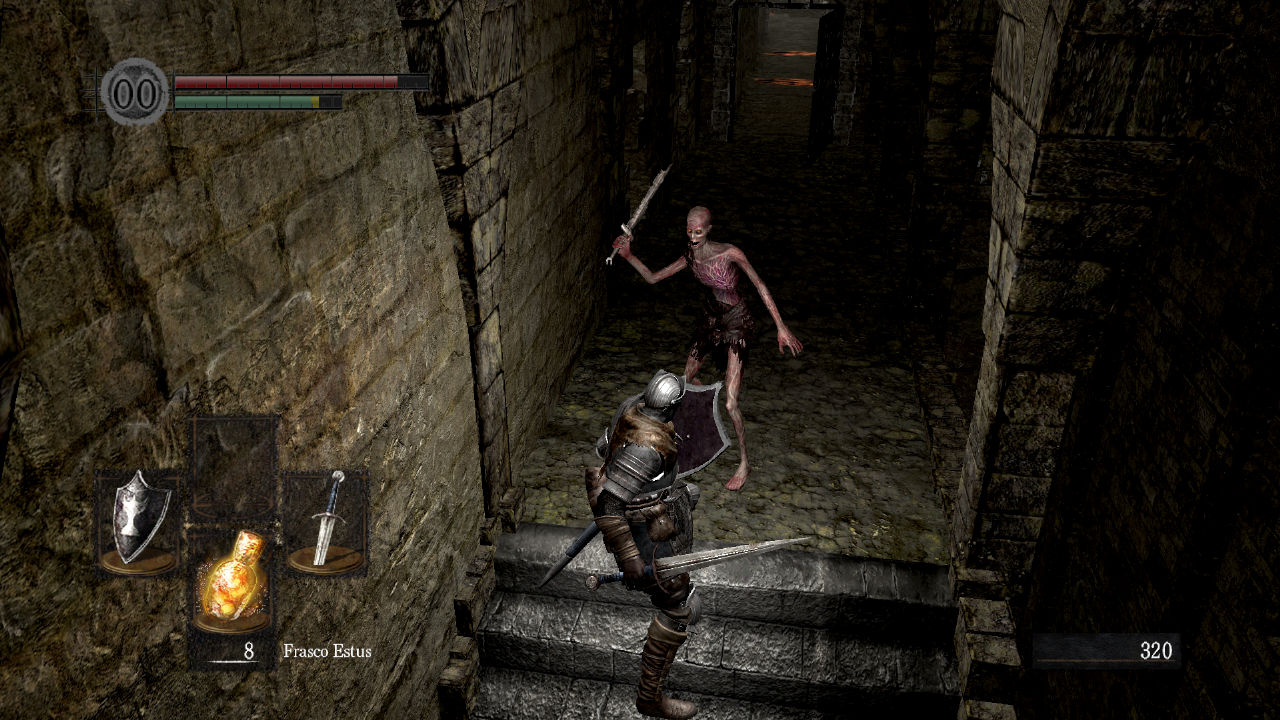hollow: (605, 164, 803, 491)
player: (539, 368, 813, 720)
